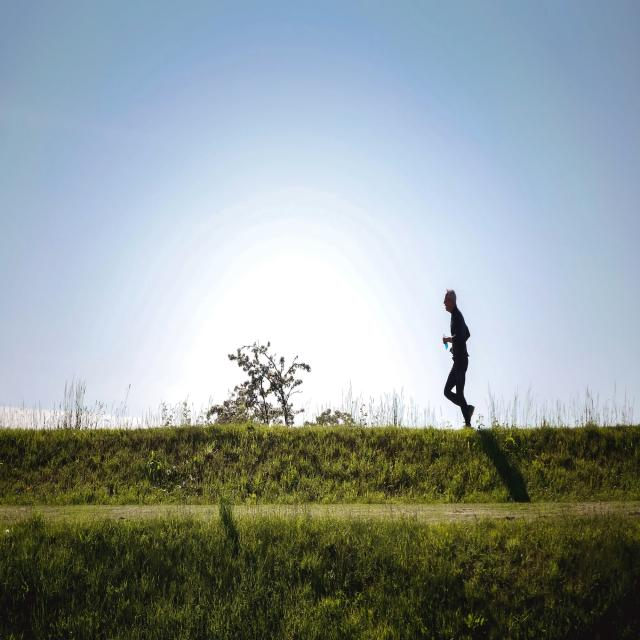adult: (443, 289, 475, 427)
